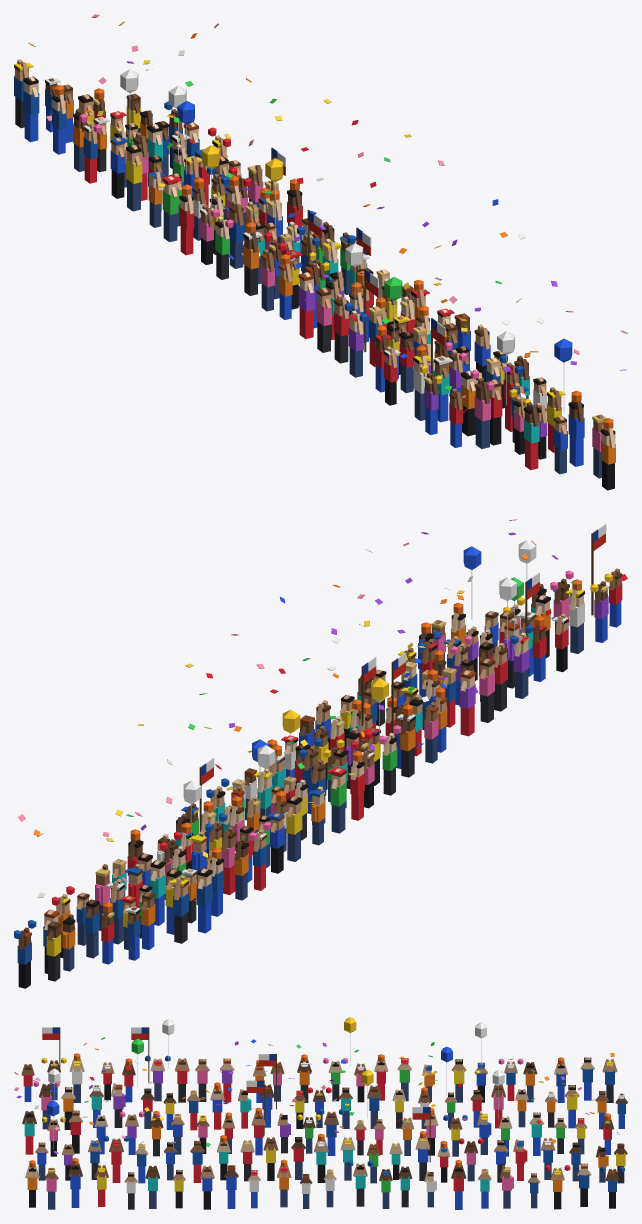
The model's file is ninos_graderia_2.obj.
3 renders of one model, top to bottom at view 1: azimuth 30°, elevation 25°; view 2: azimuth 150°, elevation 25°; view 3: azimuth 270°, elevation 25°, orthographic. The views are drawn at different scales.
Parts seen in each view (by area): view 1: ninos_graderia_2; view 2: ninos_graderia_2; view 3: ninos_graderia_2.
Part boxes in pixels (x1=…): ninos_graderia_2: x1=14, y1=14, x2=627, y2=490; ninos_graderia_2: x1=14, y1=519, x2=627, y2=988; ninos_graderia_2: x1=14, y1=1017, x2=627, y2=1209.
Bounding box in the file's own units: 4.84 × 4.51 × 18.24.
